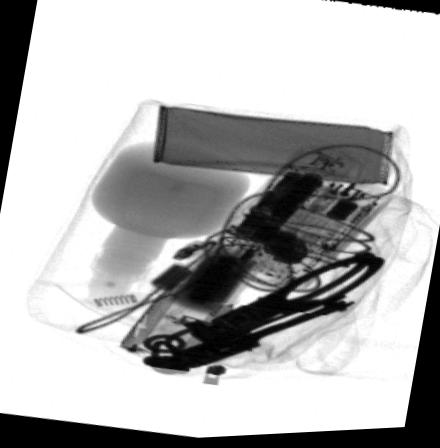Baton: (116, 143, 365, 359)
HandCuffs: (139, 254, 384, 377)
